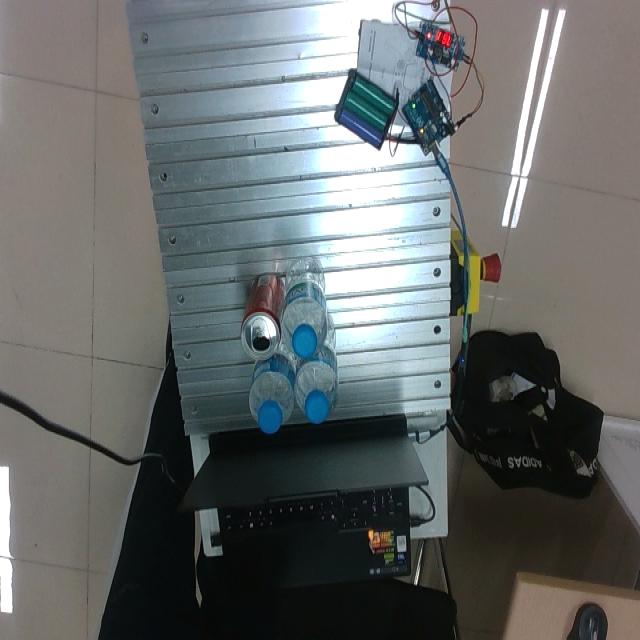coca: (241, 273, 285, 360)
lavie: (282, 258, 330, 362), (295, 316, 339, 425), (249, 346, 297, 434)
